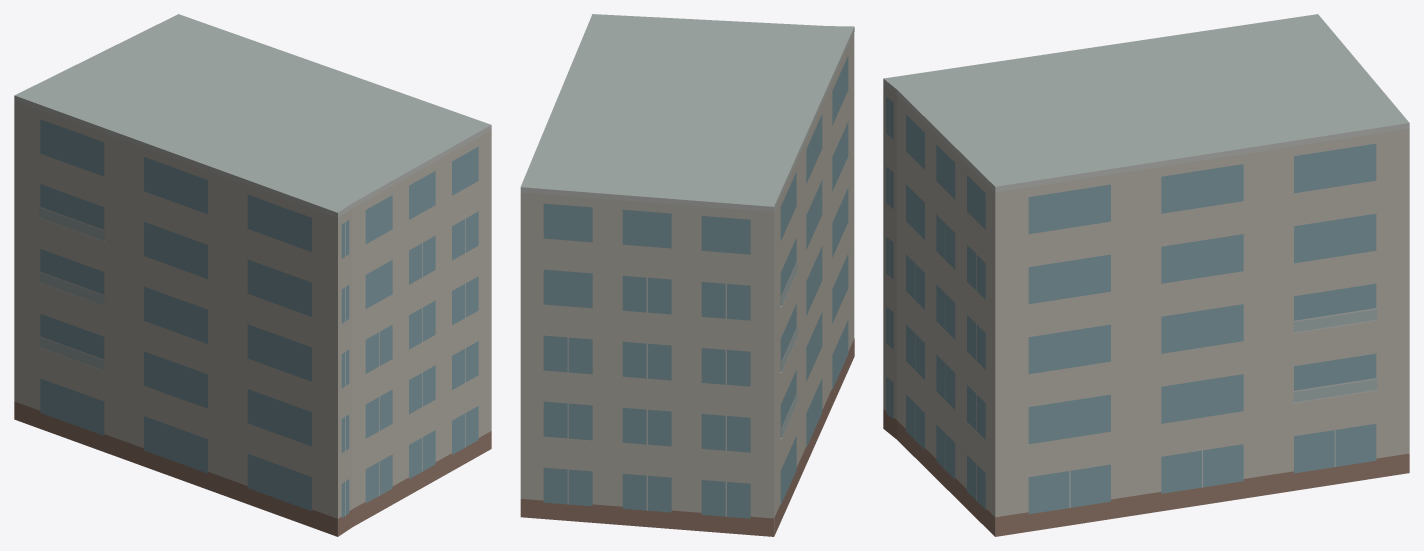
Rendered from survey-upis-32781179.glb.
The picture shows the model from 3 angles, left to right: view 1: azimuth 30°, elevation 25°; view 2: azimuth 150°, elevation 25°; view 3: azimuth 270°, elevation 25°; orthographic projection. The views are drawn at different scales.
Parts seen in each view (by area): view 1: survey-upis-32781179.tmp; view 2: survey-upis-32781179.tmp; view 3: survey-upis-32781179.tmp.
Part boxes in pixels (x1,y1,x2,y2): survey-upis-32781179.tmp: [14, 14, 491, 536]; survey-upis-32781179.tmp: [520, 14, 854, 536]; survey-upis-32781179.tmp: [883, 14, 1409, 536].
Bounding box in the file's own units: 16.15 × 15.25 × 20.79.
